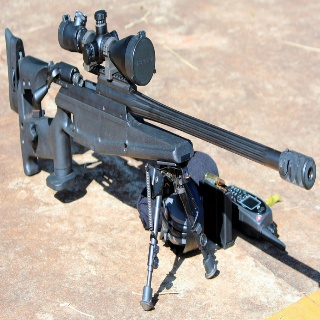rifle: (3, 8, 318, 312)
